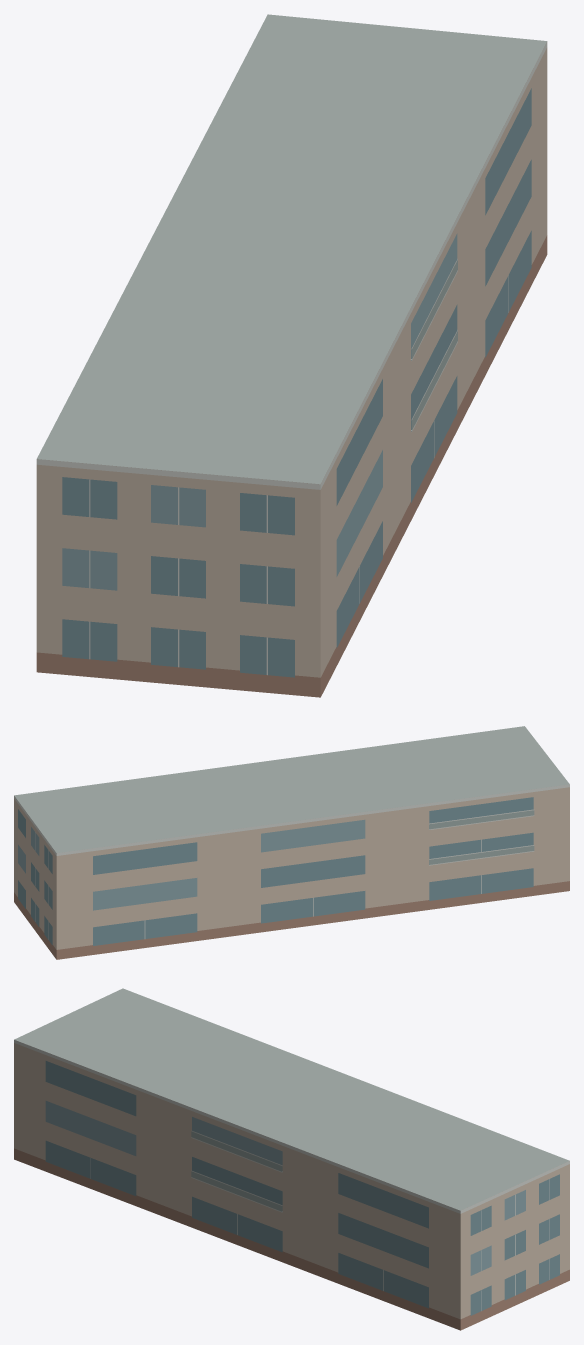
File: survey-upis-32711763.glb
3 renders of one model, top to bottom at view 1: azimuth 30°, elevation 25°; view 2: azimuth 150°, elevation 25°; view 3: azimuth 270°, elevation 25°, orthographic. The views are drawn at different scales.
Parts seen in each view (by area): view 1: survey-upis-32711763.tmp; view 2: survey-upis-32711763.tmp; view 3: survey-upis-32711763.tmp.
Boxes of the visible parts, bbox=[...] form: survey-upis-32711763.tmp: bbox=[36, 14, 547, 697]; survey-upis-32711763.tmp: bbox=[14, 726, 569, 959]; survey-upis-32711763.tmp: bbox=[14, 988, 569, 1330].
Size of the model in its own units: 36.43 by 9.15 by 38.47.
